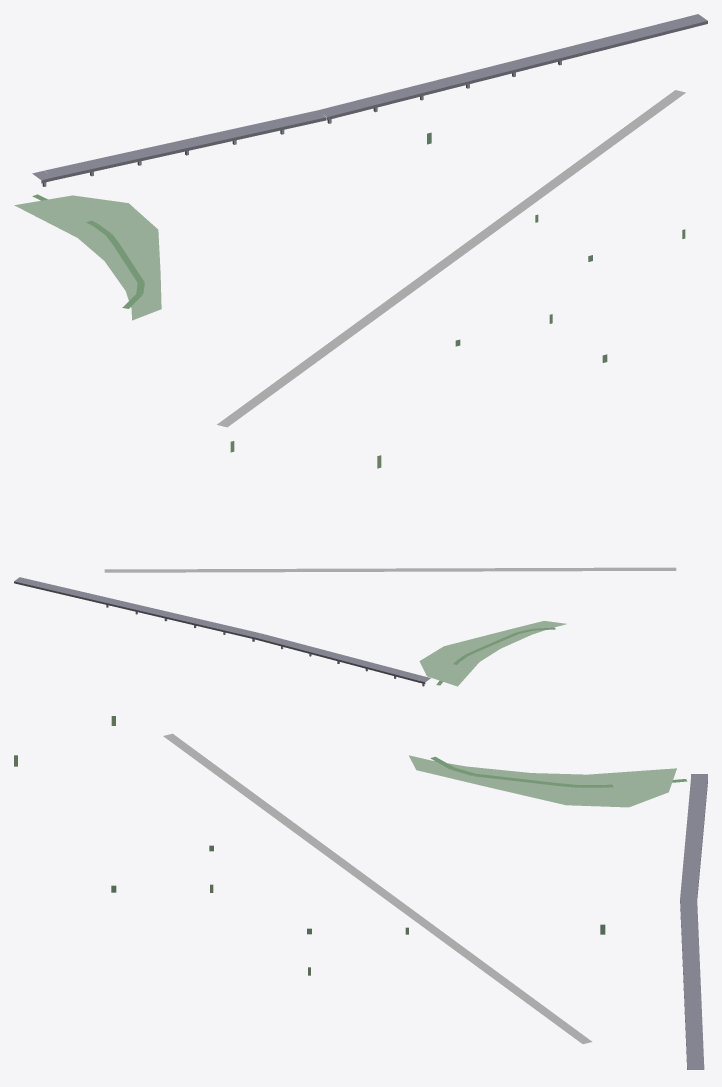
3 views of the same model, one above another, from view 1: azimuth 30°, elevation 25°; view 2: azimuth 150°, elevation 25°; view 3: azimuth 270°, elevation 25° (orthographic). The views are drawn at different scales.
Size of the model in its own units: 511 by 10.11 by 426.
